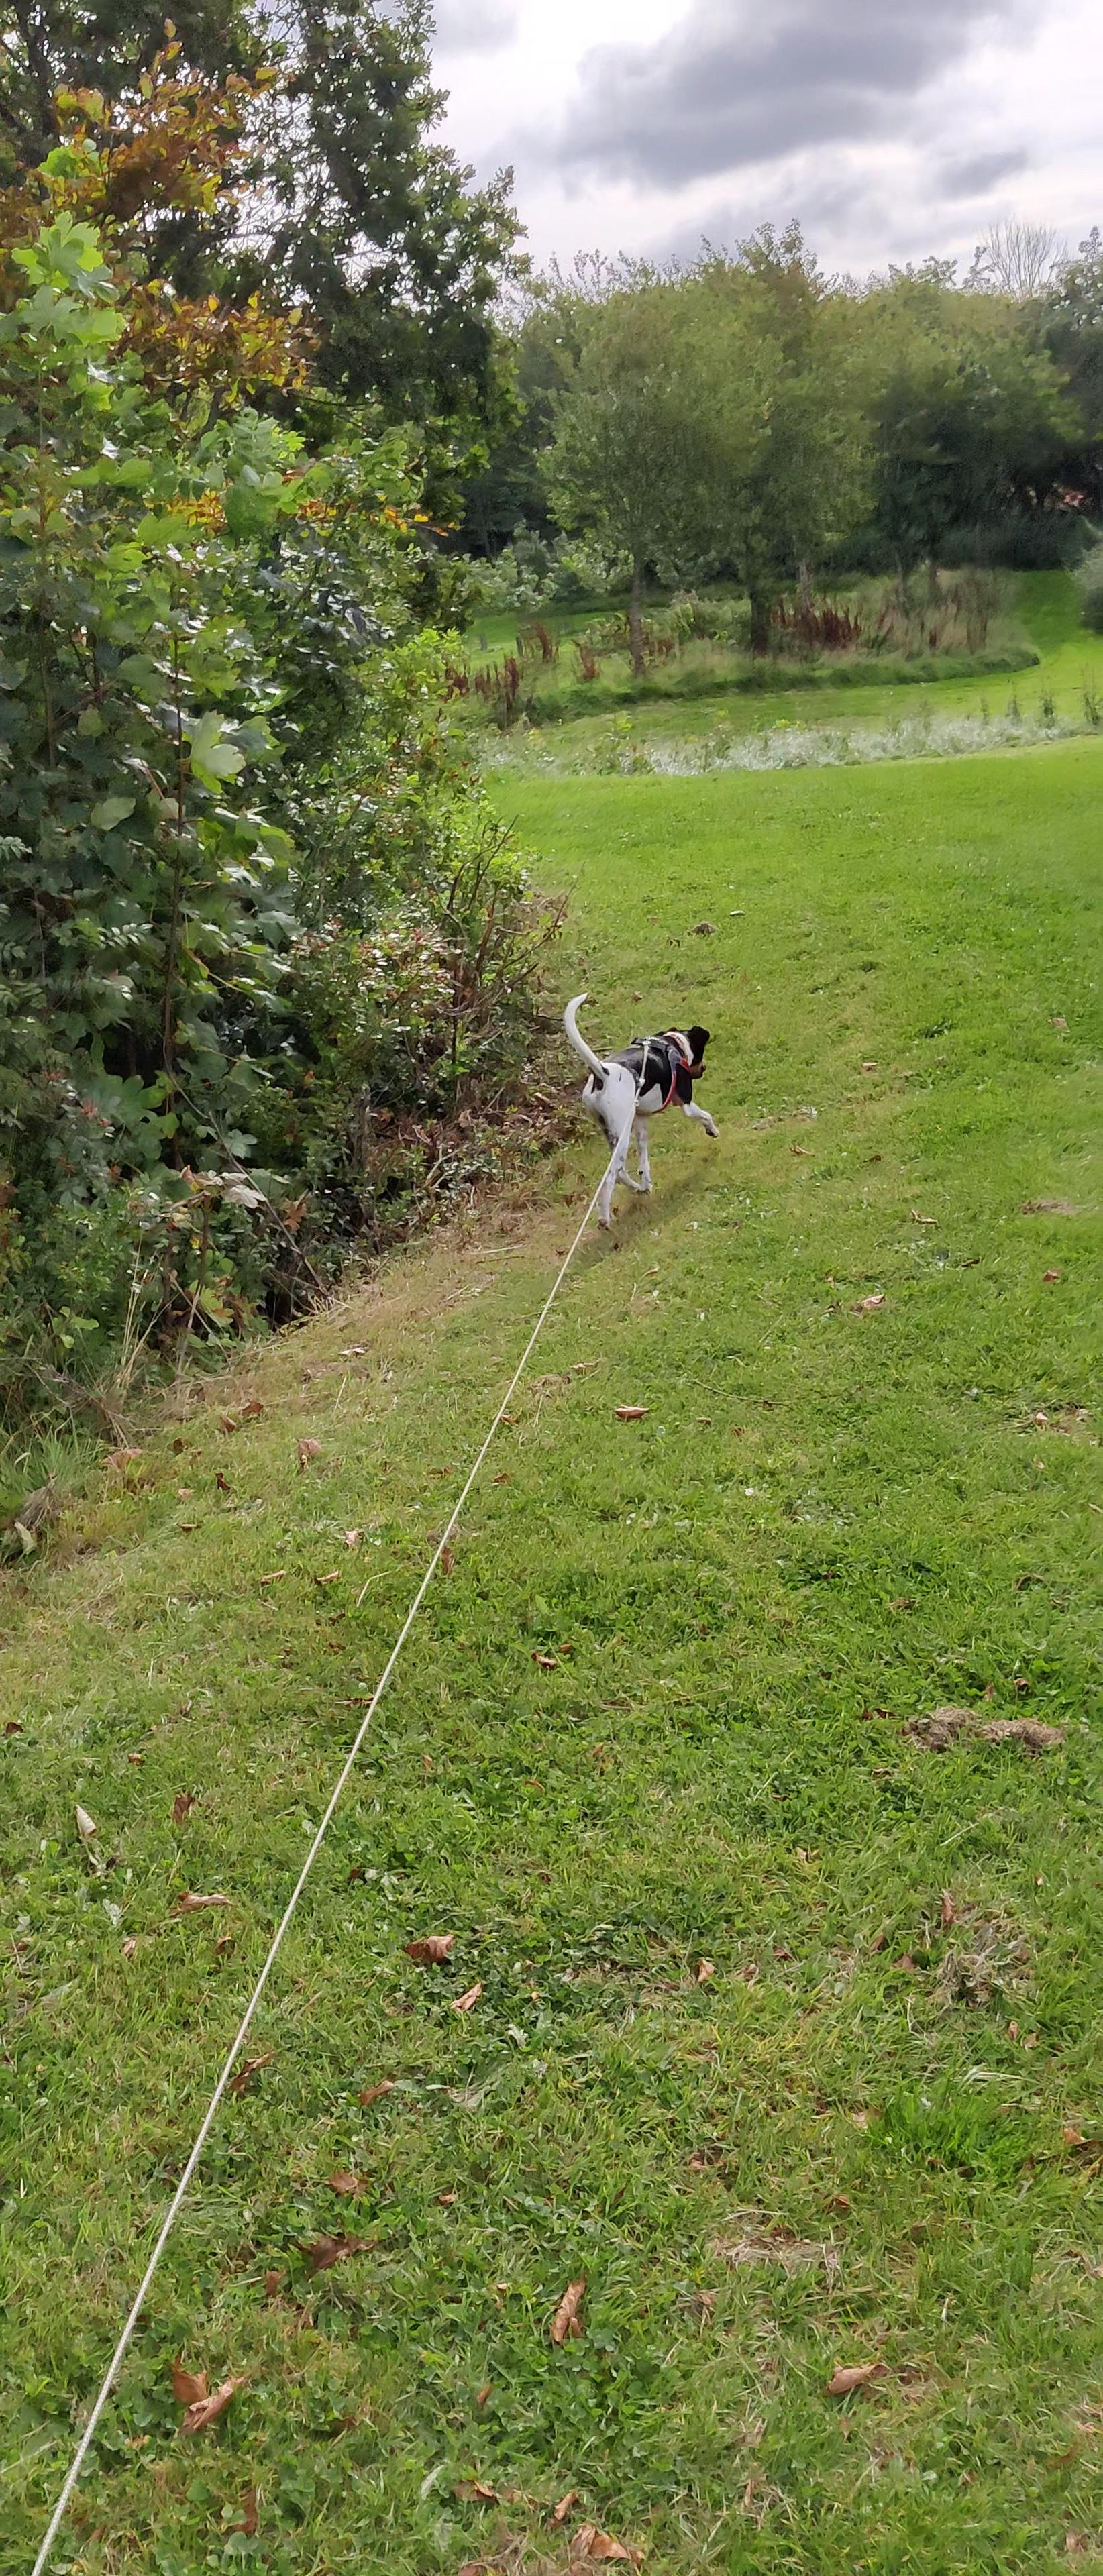Dog: (557, 986, 725, 1235)
